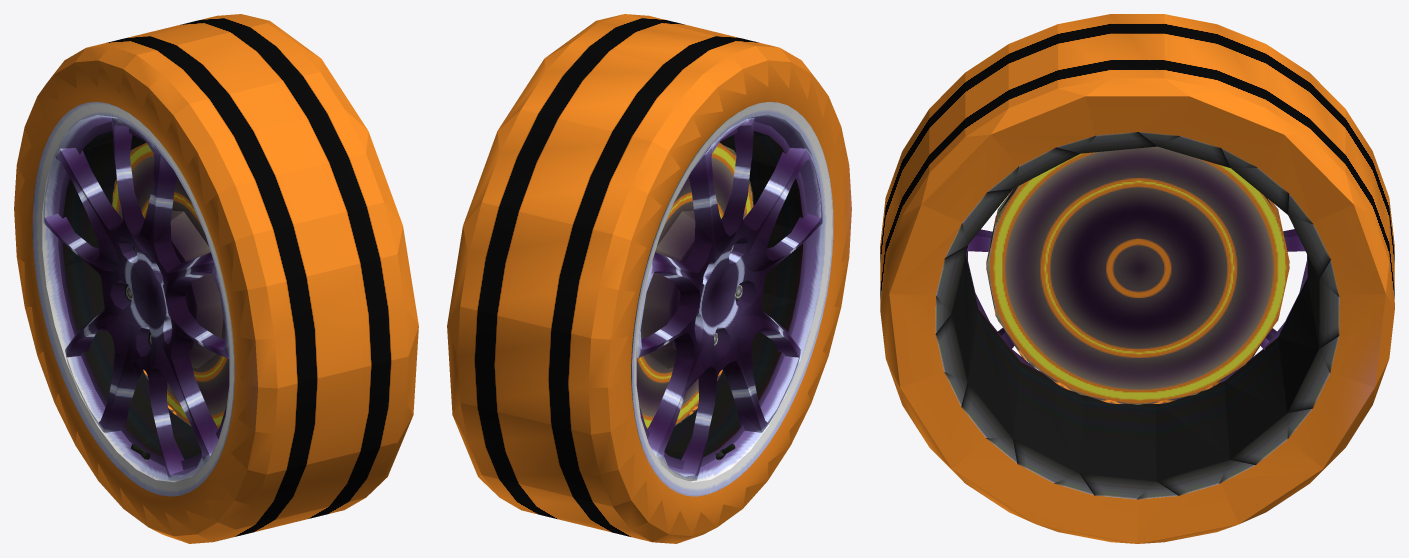
File: tyre.obj
3 renders of one model, left to right at view 1: azimuth 30°, elevation 25°; view 2: azimuth 150°, elevation 25°; view 3: azimuth 270°, elevation 25°, orthographic.
Parts seen in each view (by area): view 1: part_026; view 2: part_026; view 3: part_026.
Part boxes in pixels (<box>): part_026: <box>14,14,418,543</box>; part_026: <box>447,14,851,543</box>; part_026: <box>880,14,1394,543</box>.
Bounding box in the file's own units: 0.2463 × 0.6574 × 0.6611.
